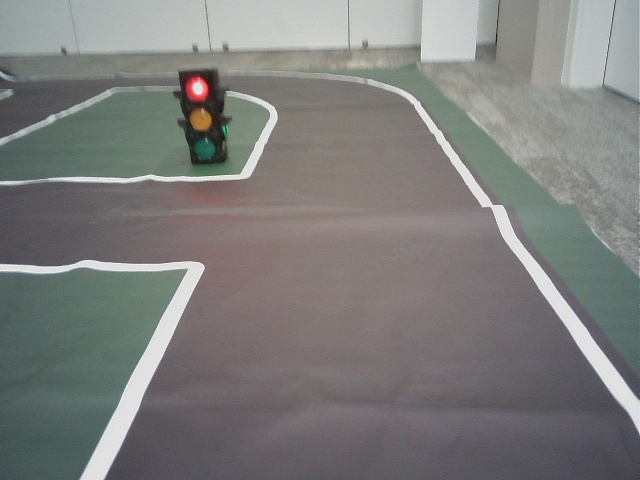red: (180, 73, 218, 162)
